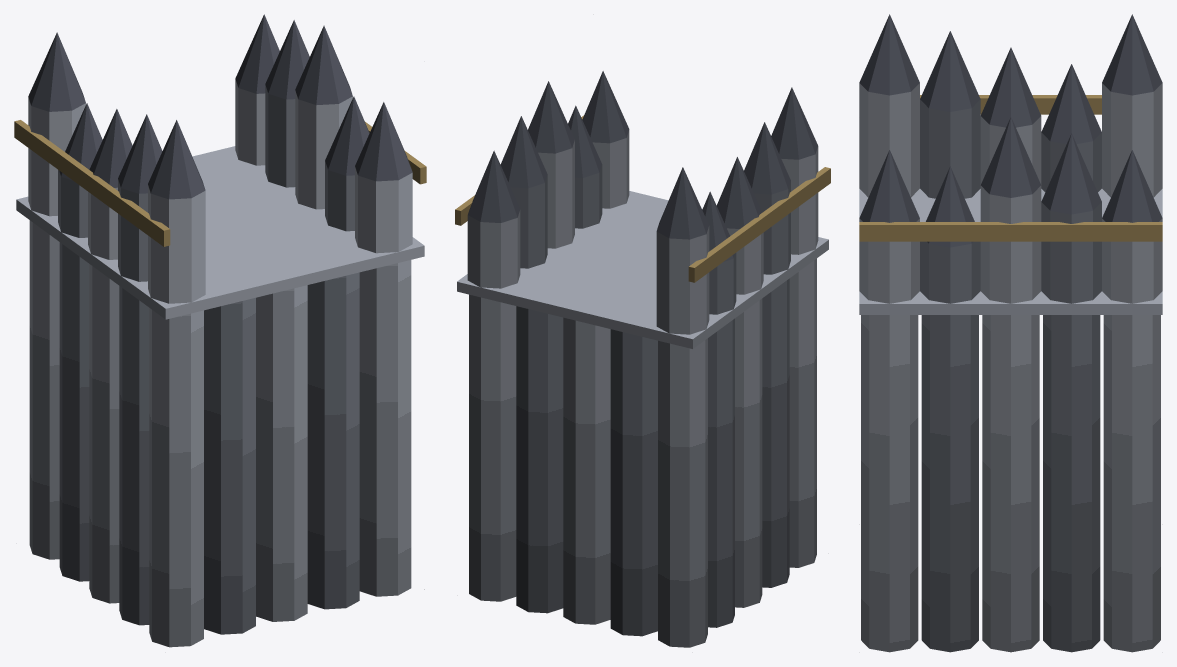
The model's file is perimeter_wall_metal_f5.glb.
3 views of the same model, side by side, from view 1: azimuth 30°, elevation 25°; view 2: azimuth 150°, elevation 25°; view 3: azimuth 270°, elevation 25° (orthographic). The views are drawn at different scales.
Bounding box in the file's own units: 2.03 × 3.9 × 2.
1 material, 1 textured.
